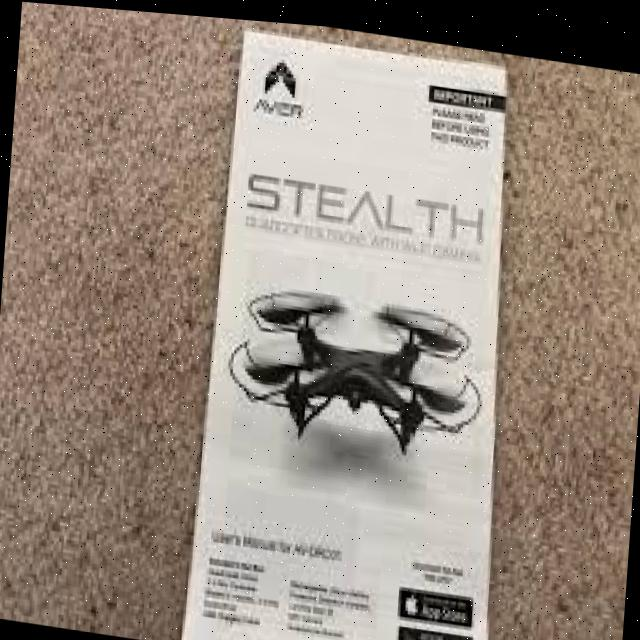drone: (212, 264, 492, 473)
